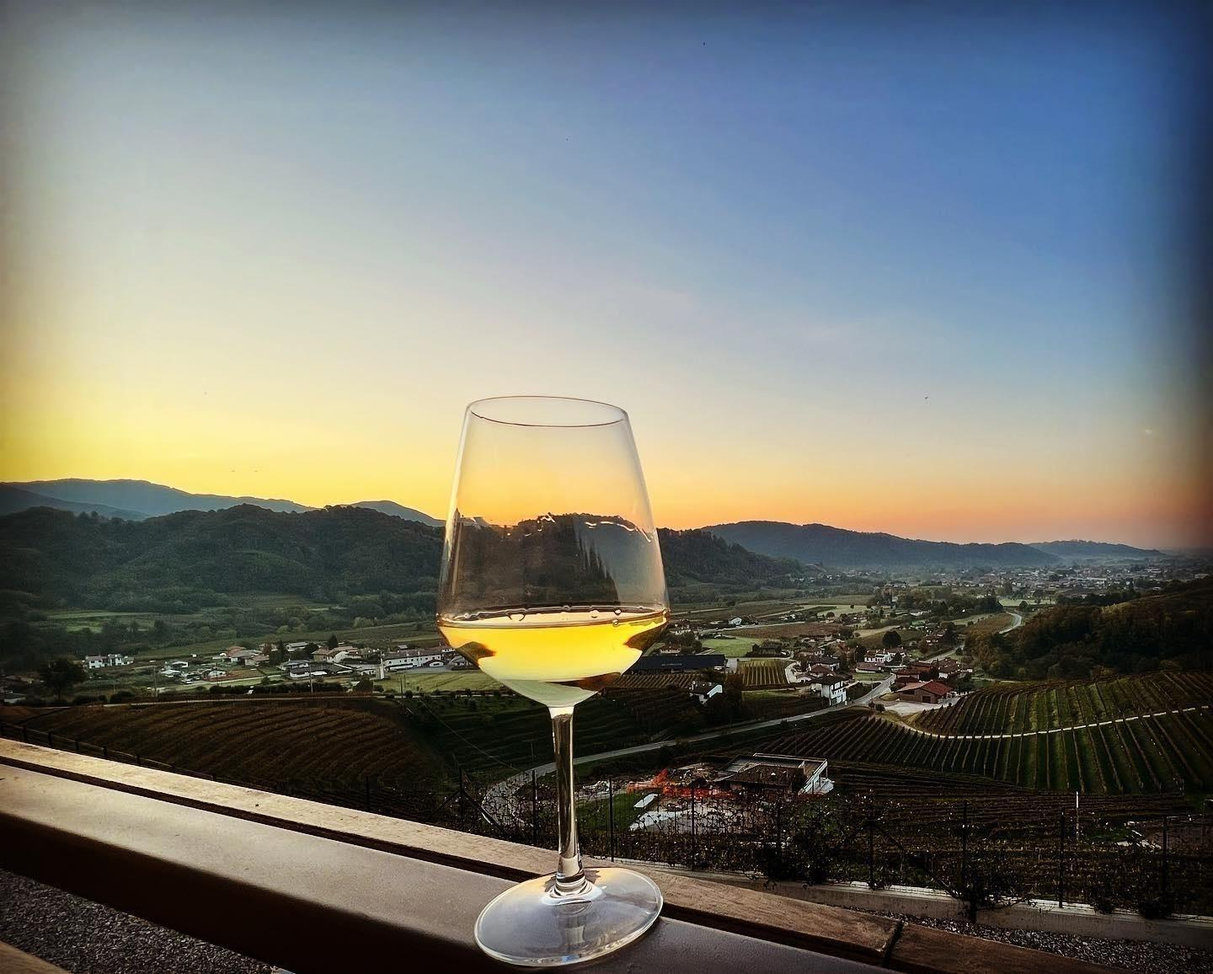glass-wine: (434, 389, 672, 963)
